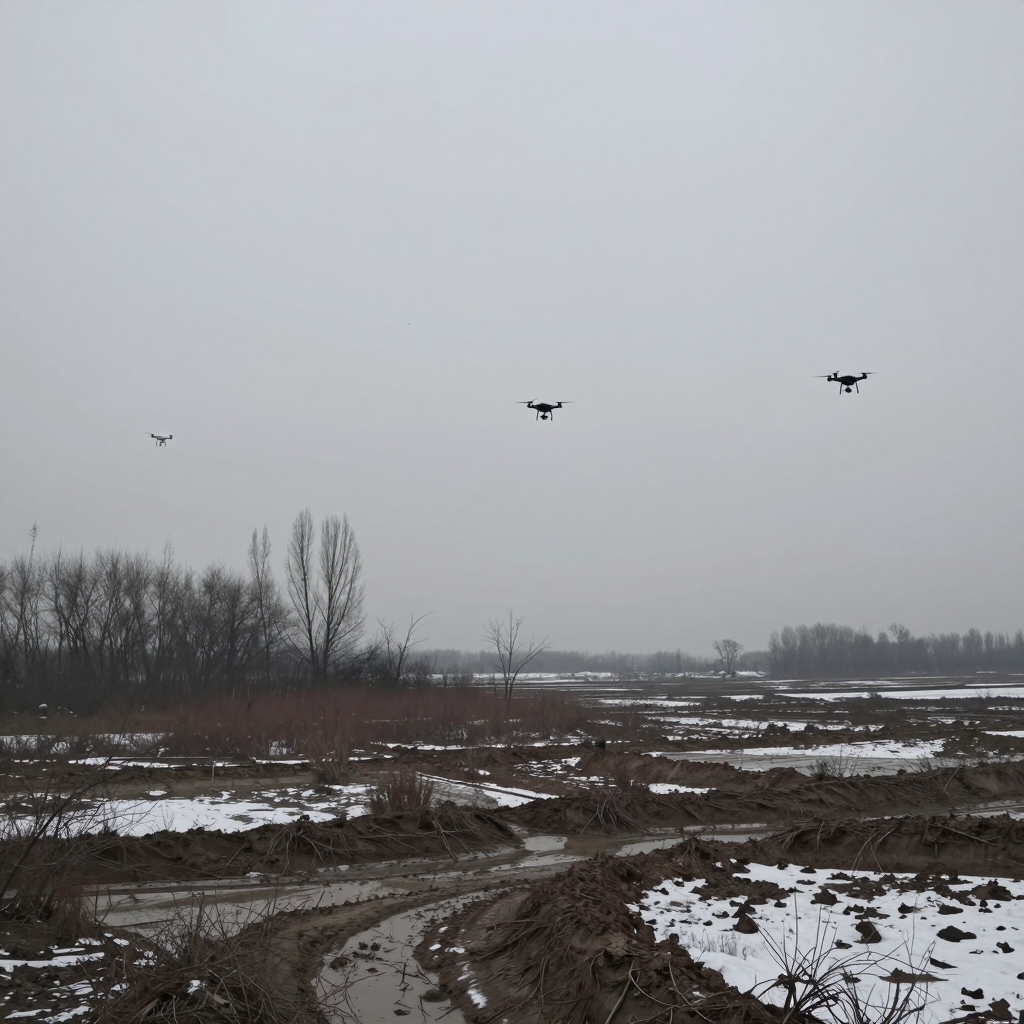drone: (813, 371, 877, 395), (516, 399, 574, 422), (144, 432, 173, 447)
